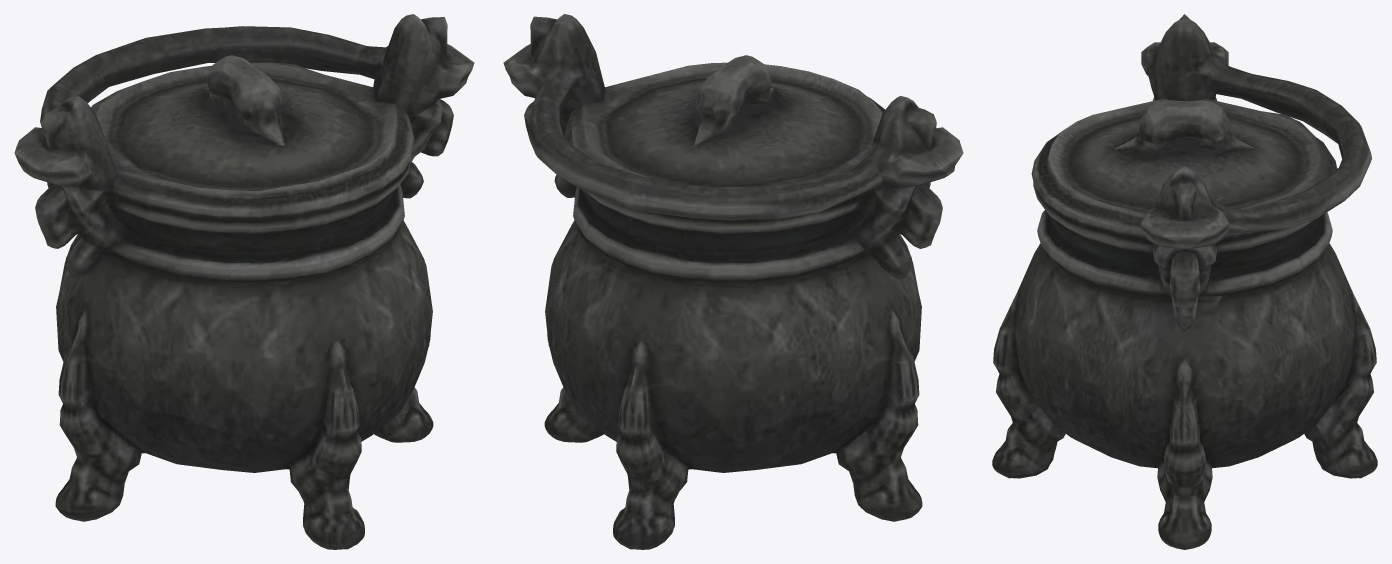
Rendered from cauldron.glb.
The picture shows the model from 3 angles, left to right: view 1: azimuth 30°, elevation 25°; view 2: azimuth 150°, elevation 25°; view 3: azimuth 270°, elevation 25°; orthographic projection. The views are drawn at different scales.
Bounding box in the file's own units: 1.91 × 1.75 × 1.61.
1 material, 1 textured.
